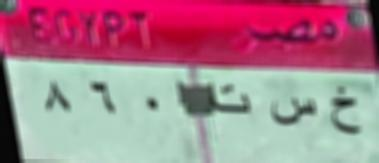0: (136, 80, 168, 126)
6: (86, 77, 126, 122)
8: (38, 77, 75, 122)
khaa: (326, 81, 362, 148)
seen: (266, 94, 320, 134)
taa: (209, 80, 254, 124)
